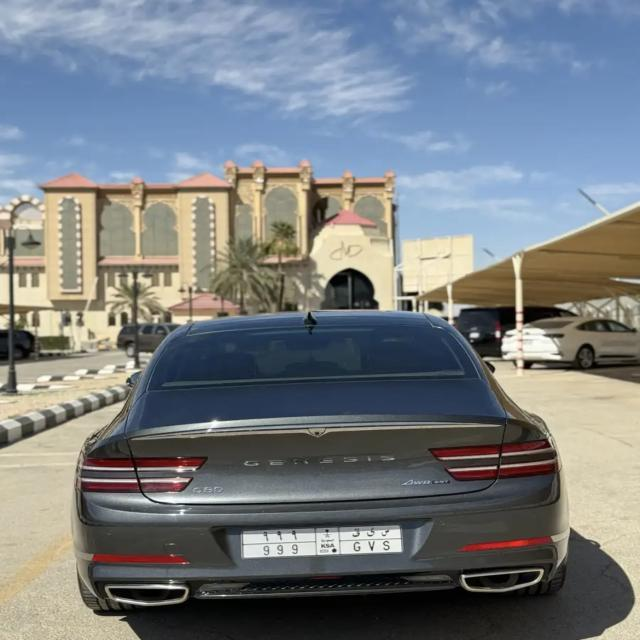license_plate: (241, 523, 402, 553)
